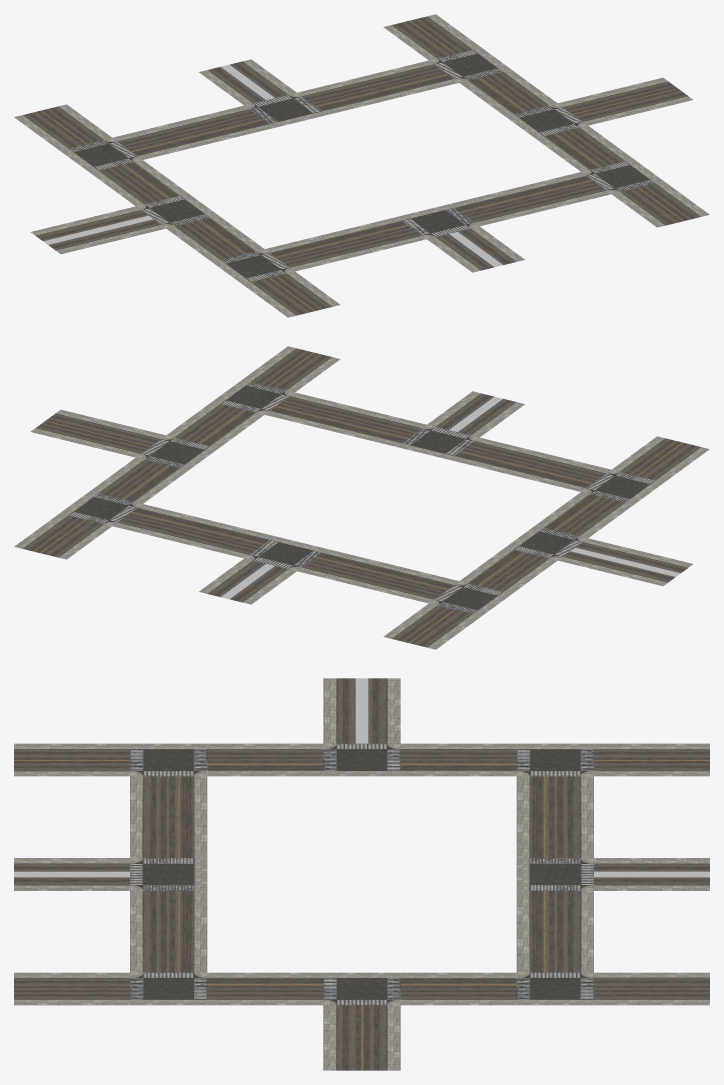
The model's file is Piso2.obj.
3 renders of one model, top to bottom at view 1: azimuth 30°, elevation 25°; view 2: azimuth 150°, elevation 25°; view 3: azimuth 270°, elevation 25°, orthographic. The views are drawn at different scales.
Parts seen in each view (by area): view 1: Carretera2Carriles, Carretera4carriles, Cruces_3, Jardineras; view 2: Carretera2Carriles, Carretera4carriles, Cruces_3, Jardineras; view 3: Carretera2Carriles, Carretera4carriles, Cruces_3, Jardineras.
Boxes of the visible parts, <box> form: Carretera2Carriles: <box>90,60,633,271</box>; Carretera4carriles: <box>14,14,709,317</box>; Cruces_3: <box>60,47,663,284</box>; Jardineras: <box>43,64,502,267</box>; Carretera2Carriles: <box>90,392,633,603</box>; Carretera4carriles: <box>14,346,709,649</box>; Cruces_3: <box>60,379,663,616</box>; Jardineras: <box>221,396,680,599</box>; Carretera2Carriles: <box>130,743,593,1005</box>; Carretera4carriles: <box>14,678,709,1070</box>; Cruces_3: <box>130,743,593,1005</box>; Jardineras: <box>14,678,709,877</box>.
Size of the model in its own units: 3600 by 0 by 2700.
